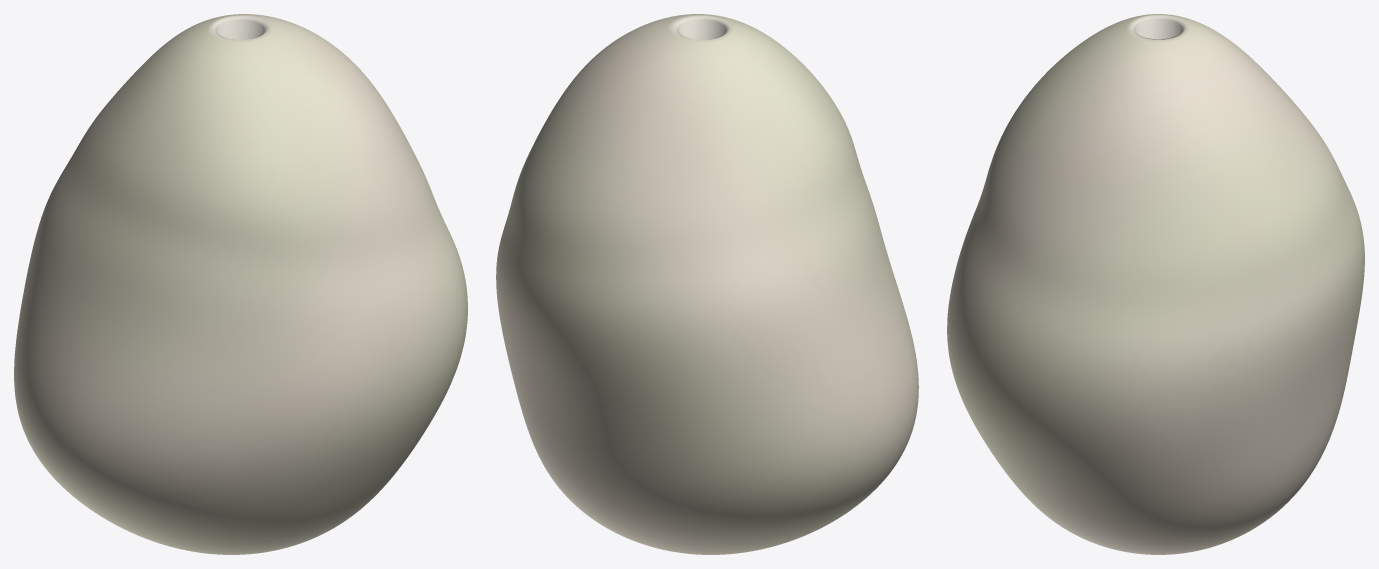
Rendered from pearl-ref-16.glb.
3 renders of one model, left to right at view 1: azimuth 30°, elevation 25°; view 2: azimuth 150°, elevation 25°; view 3: azimuth 270°, elevation 25°, orthographic.
Parts seen in each view (by area): view 1: pearl-ref-16; view 2: pearl-ref-16; view 3: pearl-ref-16.
Part boxes in pixels (left/top/right/bottom): pearl-ref-16: left=14, top=14, right=467, bottom=554; pearl-ref-16: left=496, top=14, right=918, bottom=554; pearl-ref-16: left=947, top=14, right=1364, bottom=554.
Bounding box in the file's own units: 0.00756 × 0.0094 × 0.00703.
Materials: 2 (1 with a texture image).
